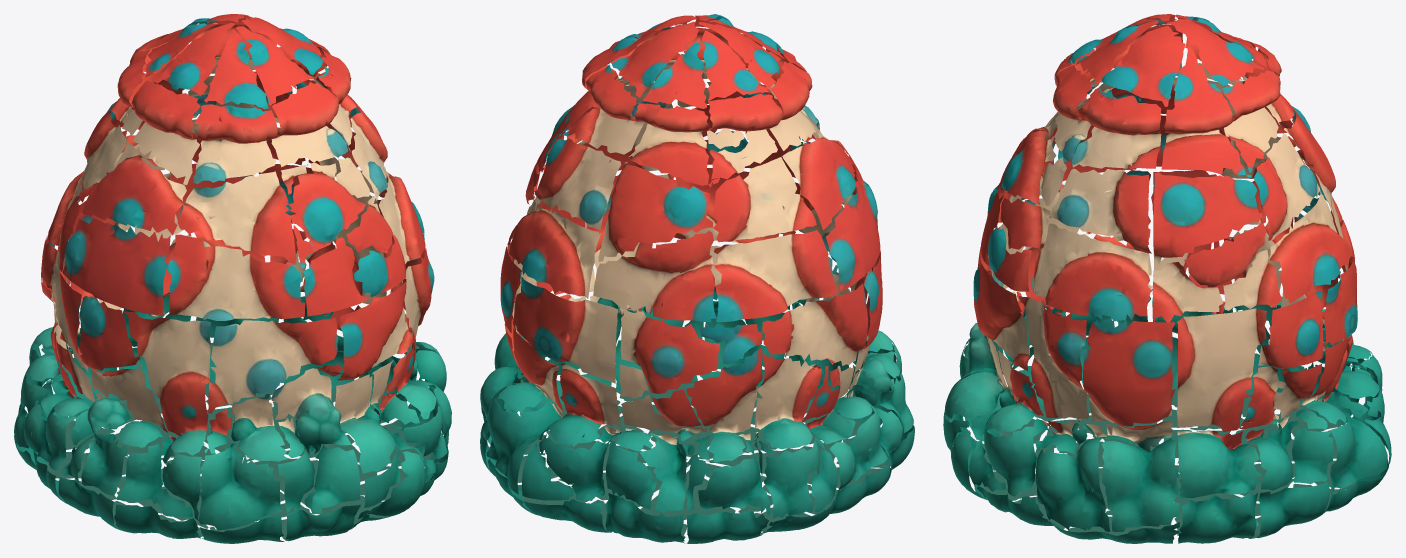
Rendered from oeuf.glb.
3 renders of one model, left to right at view 1: azimuth 30°, elevation 25°; view 2: azimuth 150°, elevation 25°; view 3: azimuth 270°, elevation 25°, orthographic.
Parts seen in each view (by area): view 1: mesh_node; view 2: mesh_node; view 3: mesh_node.
Part boxes in pixels (x1,y1,x2,y2): mesh_node: [14, 14, 451, 543]; mesh_node: [480, 14, 914, 543]; mesh_node: [943, 14, 1391, 543].
Bounding box in the file's own units: 1.72 × 1.9 × 1.75.
1 material, 1 textured.
